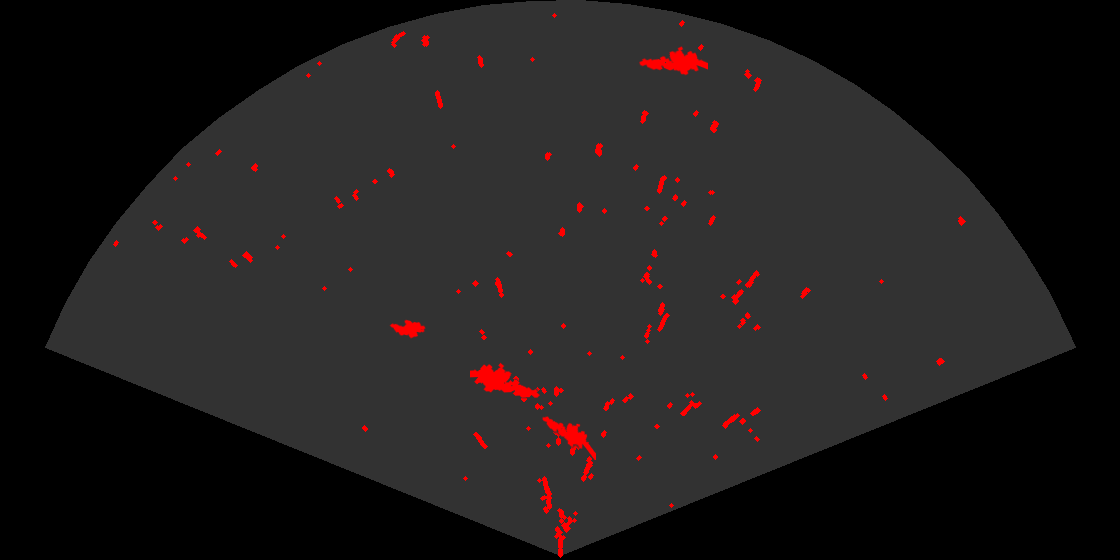AUV: (388, 318, 427, 340)
frogman: (470, 361, 540, 399), (541, 415, 596, 460), (638, 45, 708, 77)
